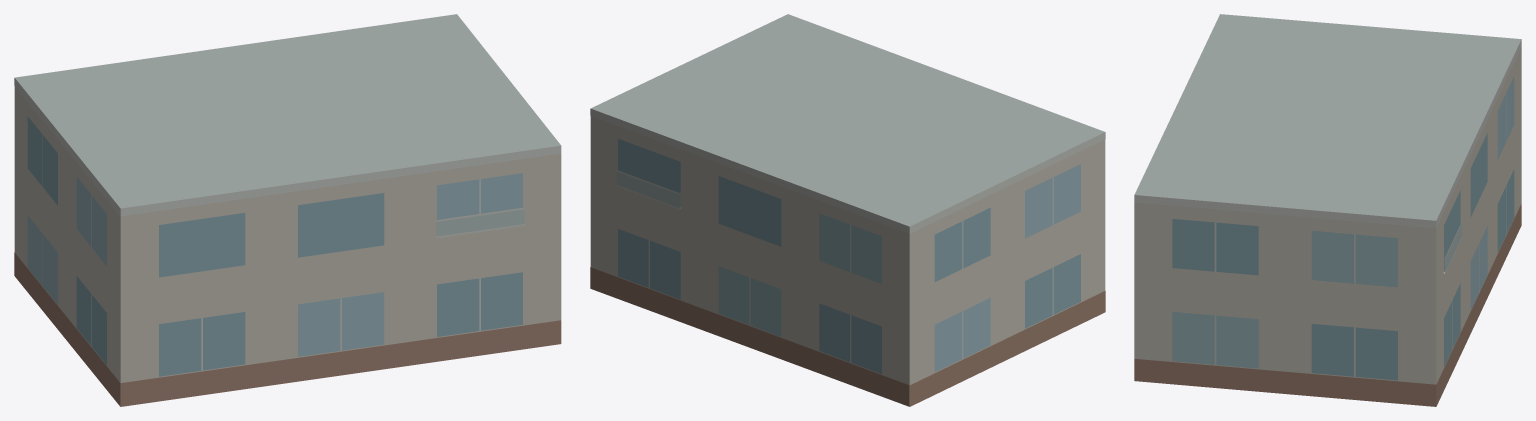
File: survey-upis-32722597.glb
3 renders of one model, left to right at view 1: azimuth 30°, elevation 25°; view 2: azimuth 150°, elevation 25°; view 3: azimuth 270°, elevation 25°, orthographic. The views are drawn at different scales.
Parts seen in each view (by area): view 1: survey-upis-32722597.tmp; view 2: survey-upis-32722597.tmp; view 3: survey-upis-32722597.tmp.
Boxes of the visible parts, bbox=[...] form: survey-upis-32722597.tmp: bbox=[14, 14, 561, 406]; survey-upis-32722597.tmp: bbox=[590, 14, 1105, 406]; survey-upis-32722597.tmp: bbox=[1134, 14, 1521, 406].
Bounding box in the file's own units: 14.55 × 6.1 × 11.52.
